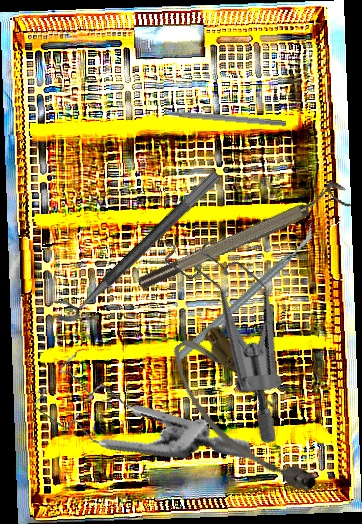Cannula: (159, 318, 329, 516)
Chopper: (149, 221, 342, 364)
Fixation Ring: (44, 156, 223, 331), (131, 177, 353, 294)
Hook Surgical: (151, 107, 287, 127)
Speculum: (109, 213, 351, 448), (24, 317, 253, 506)
